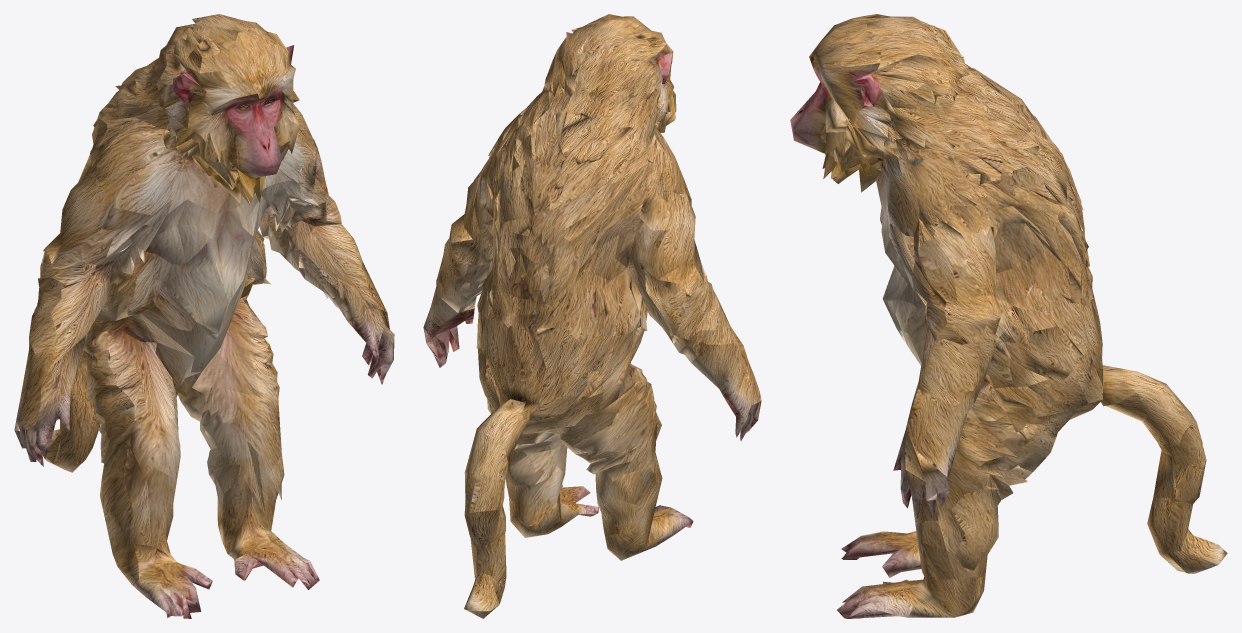
File: realmonkey.glb
3 views of the same model, side by side, from view 1: azimuth 30°, elevation 25°; view 2: azimuth 150°, elevation 25°; view 3: azimuth 270°, elevation 25° (orthographic). The views are drawn at different scales.
Parts seen in each view (by area): view 1: Object_4; view 2: Object_4; view 3: Object_4.
Boxes of the visible parts, x1,y1,x2,y2 form: Object_4: (14,14,394,618); Object_4: (423,14,761,618); Object_4: (790,14,1227,618).
Size of the model in its own units: 0.4114 by 0.6 by 0.4206.
Materials: 1 (1 with a texture image).
